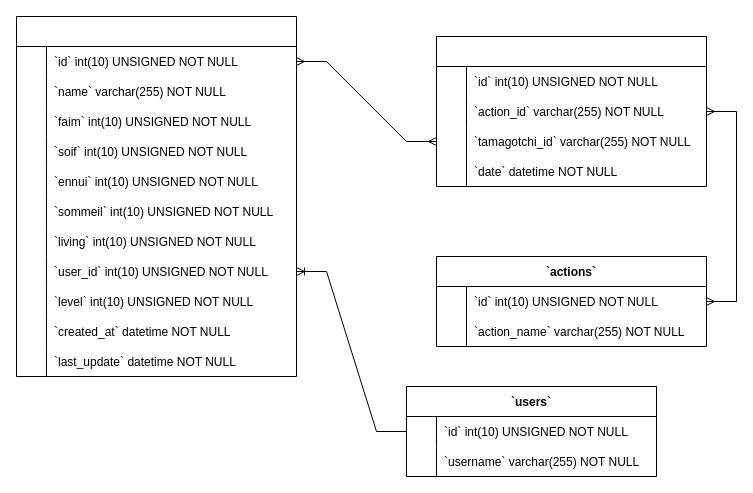
The diagram is 753 pixels wide and 493 high, and some of its shapes have lost their labels. Each missing label, with the box of its shape:
`tamagotchi`: (16, 16, 296, 376)
`tamagotchis_actions`: (436, 36, 706, 186)
